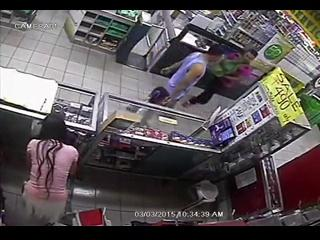Normal: (22, 114, 80, 224), (160, 49, 224, 106)
